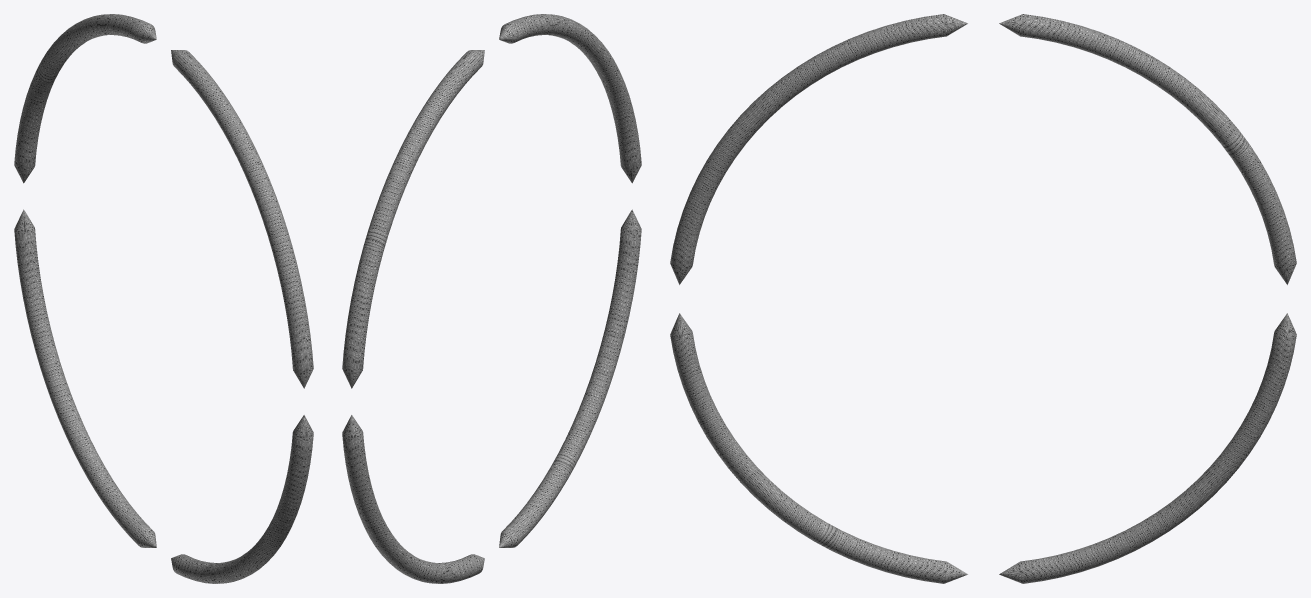
File: RingOne.gltf
3 views of the same model, side by side, from view 1: azimuth 30°, elevation 25°; view 2: azimuth 150°, elevation 25°; view 3: azimuth 270°, elevation 25° (orthographic). The views are drawn at different scales.
Visible parts, largest first — view 1: Object; view 2: Object; view 3: Object.
Part boxes in pixels (x1,y1,x2,y2): Object: (14,14,313,583); Object: (342,14,641,583); Object: (670,14,1296,583).
Size of the model in its own units: 0.006 by 0.1647 by 0.1647.
Materials: 1 (1 with a texture image).
